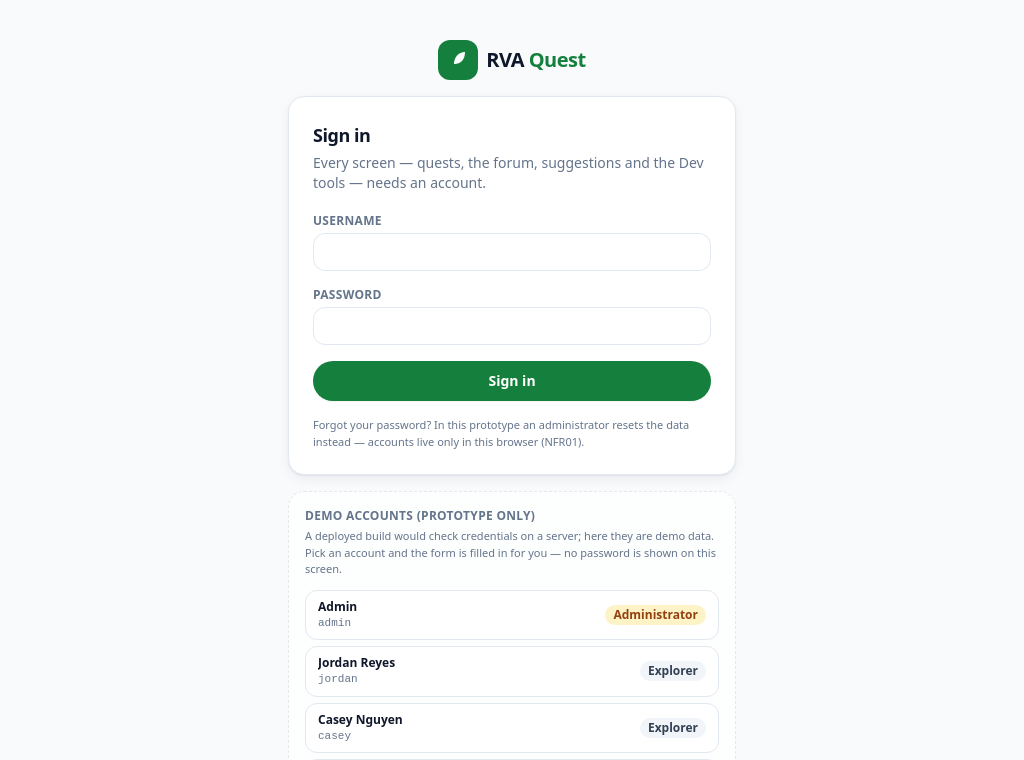
Test: App — the signed-out gate › opens the deep-linked screen, Dev tools included, once the administrator signs in
This screenshot has width=1024, height=760.
Type "admin" into the field labelled "Username" at (512, 252), box [313,233,711,271]
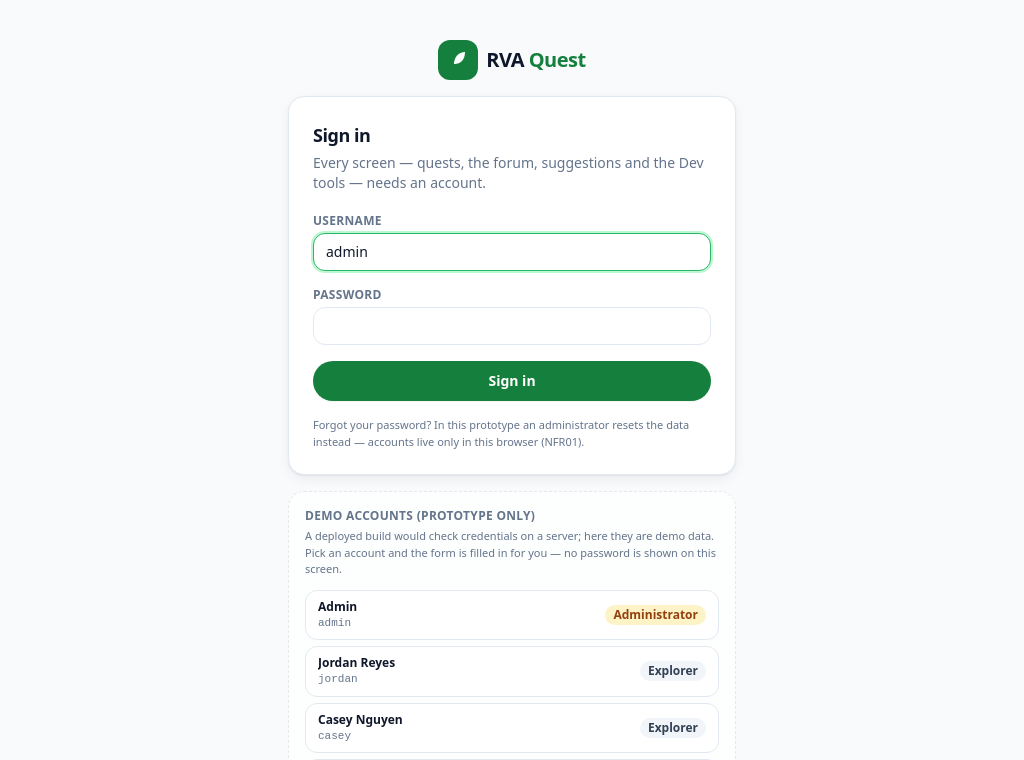
Type "admin" into the password field labelled "Password" at (512, 326), box [313,307,711,345]
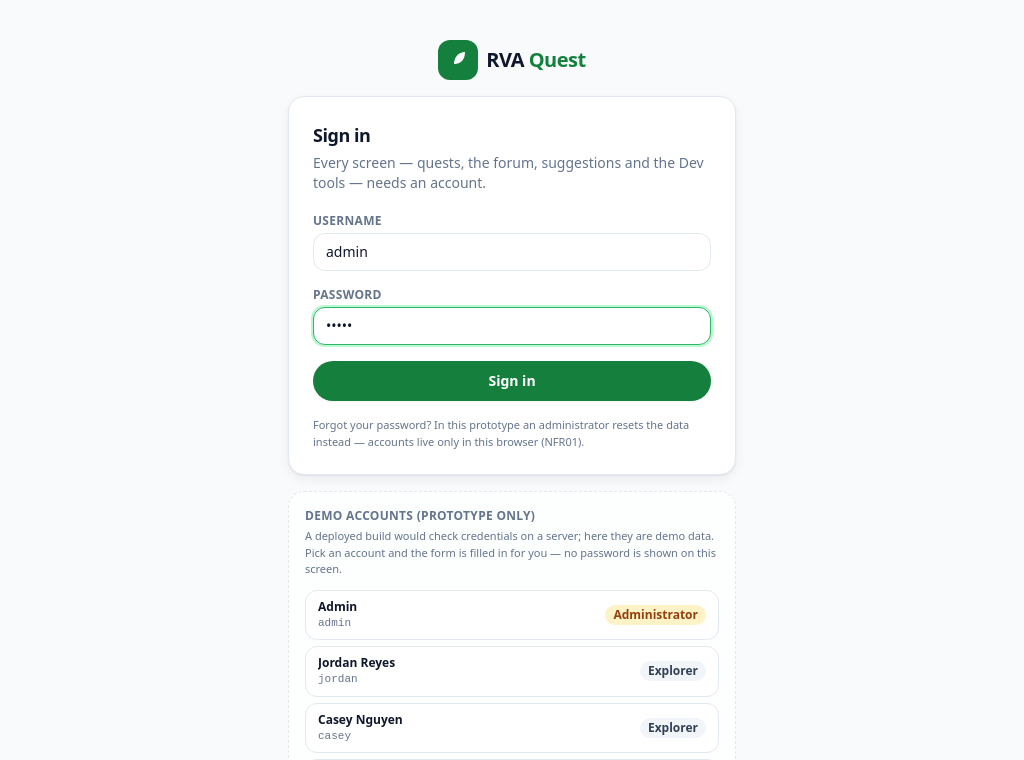
Click the button "Sign in" at (512, 381), box [313,361,711,401]
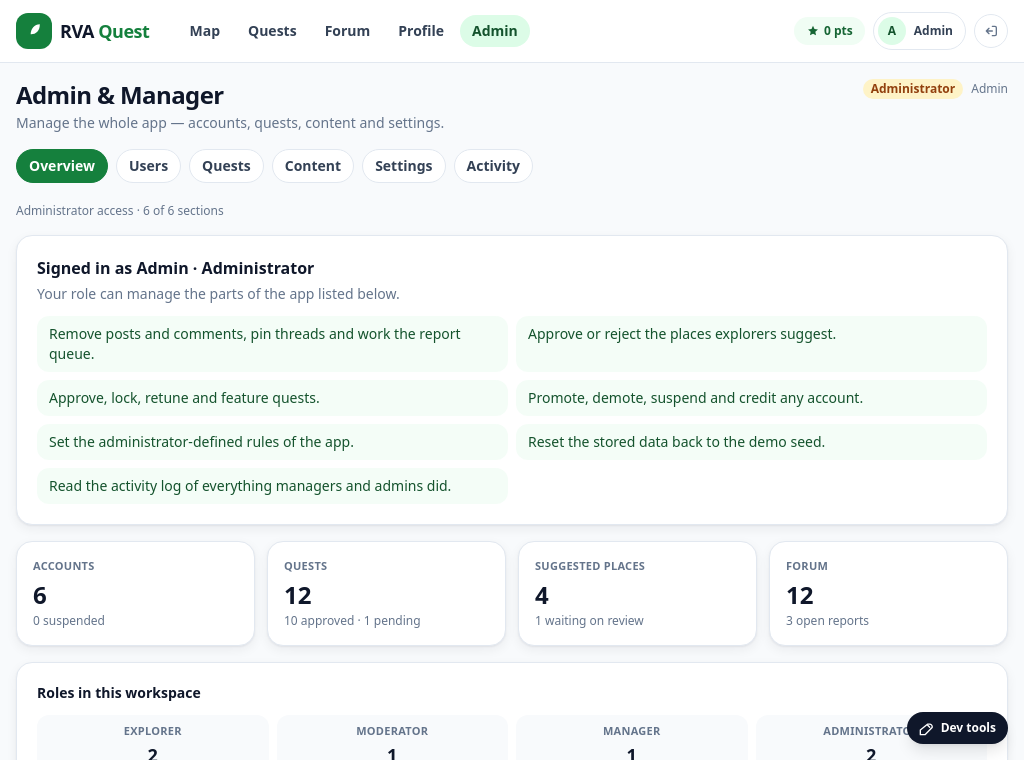
Expected: the button "Dev tools" is shown, [907,712,1008,744]
Expected: the heading "Admin & Manager" is shown, [16,78,224,111]
